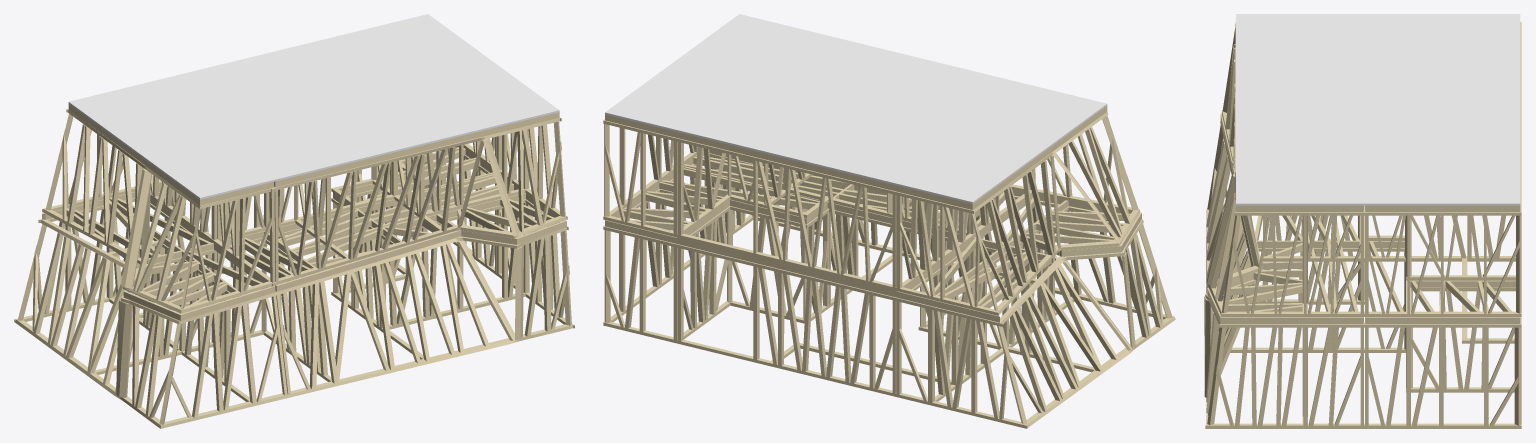
Rendered from Timber_structure.fbx.
3 views of the same model, side by side, from view 1: azimuth 30°, elevation 25°; view 2: azimuth 150°, elevation 25°; view 3: azimuth 270°, elevation 25° (orthographic). The views are drawn at different scales.
Parts seen in each view (by area): view 1: Unit 3D, module_1, module_0, module_5, module_4, module_2, module_3, module_6; view 2: Unit 3D, module_0, module_4, module_2, module_3, module_1, module_6, module_7, module_8, module_5, add timber; view 3: Unit 3D, module_1, module_2, module_5, module_6, module_0, module_4, add timber.
Boxes of the visible parts, x1,y1,x2,y2 form: Unit 3D: [68, 14, 559, 199]; module_1: [217, 174, 574, 397]; module_0: [14, 192, 288, 428]; module_5: [217, 112, 567, 284]; module_4: [42, 104, 276, 313]; module_2: [331, 146, 496, 310]; module_3: [150, 170, 357, 285]; module_6: [370, 136, 496, 194]; Unit 3D: [605, 14, 1107, 203]; module_0: [895, 195, 1175, 428]; module_4: [895, 106, 1140, 315]; module_2: [603, 168, 829, 343]; module_3: [677, 239, 897, 396]; module_1: [683, 149, 1033, 339]; module_6: [603, 114, 786, 237]; module_7: [678, 138, 896, 290]; module_8: [677, 132, 897, 191]; module_5: [683, 143, 1030, 235]; add timber: [767, 198, 951, 384]; Unit 3D: [1236, 14, 1520, 205]; module_1: [1204, 167, 1364, 428]; module_2: [1364, 241, 1521, 428]; module_5: [1206, 62, 1364, 316]; module_6: [1364, 174, 1521, 316]; module_0: [1206, 113, 1515, 276]; module_4: [1221, 21, 1521, 166]; add timber: [1368, 235, 1514, 343].
Bounding box in the file's own units: 11.74 × 7.19 × 5.62.
